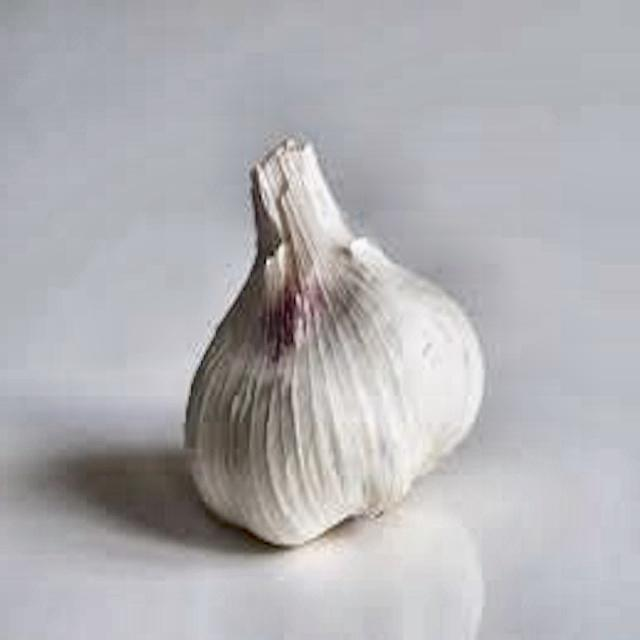garlic: (186, 135, 485, 544)
